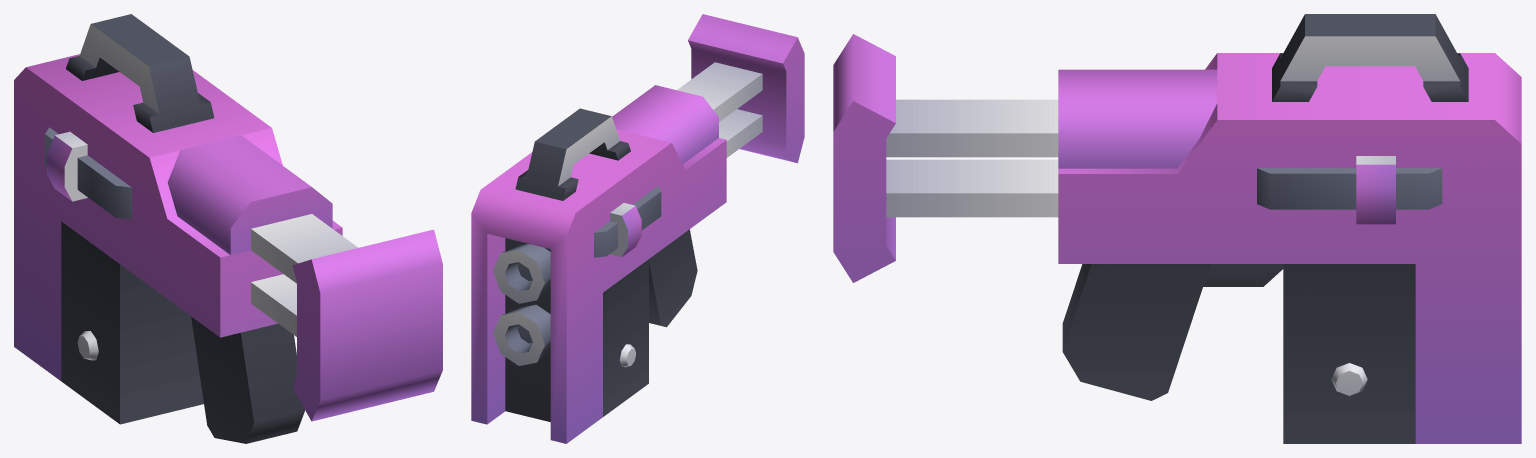
File: blaster-i.glb
3 views of the same model, side by side, from view 1: azimuth 30°, elevation 25°; view 2: azimuth 150°, elevation 25°; view 3: azimuth 270°, elevation 25° (orthographic). The views are drawn at different scales.
Visible parts, largest first — view 1: blaster-i; view 2: blaster-i; view 3: blaster-i.
Part boxes in pixels (<box>): blaster-i: <box>14,14,442,443</box>; blaster-i: <box>471,14,804,443</box>; blaster-i: <box>833,14,1521,443</box>.
Bounding box in the file's own units: 0.165 × 0.32 × 0.52.
1 material, 1 textured.
